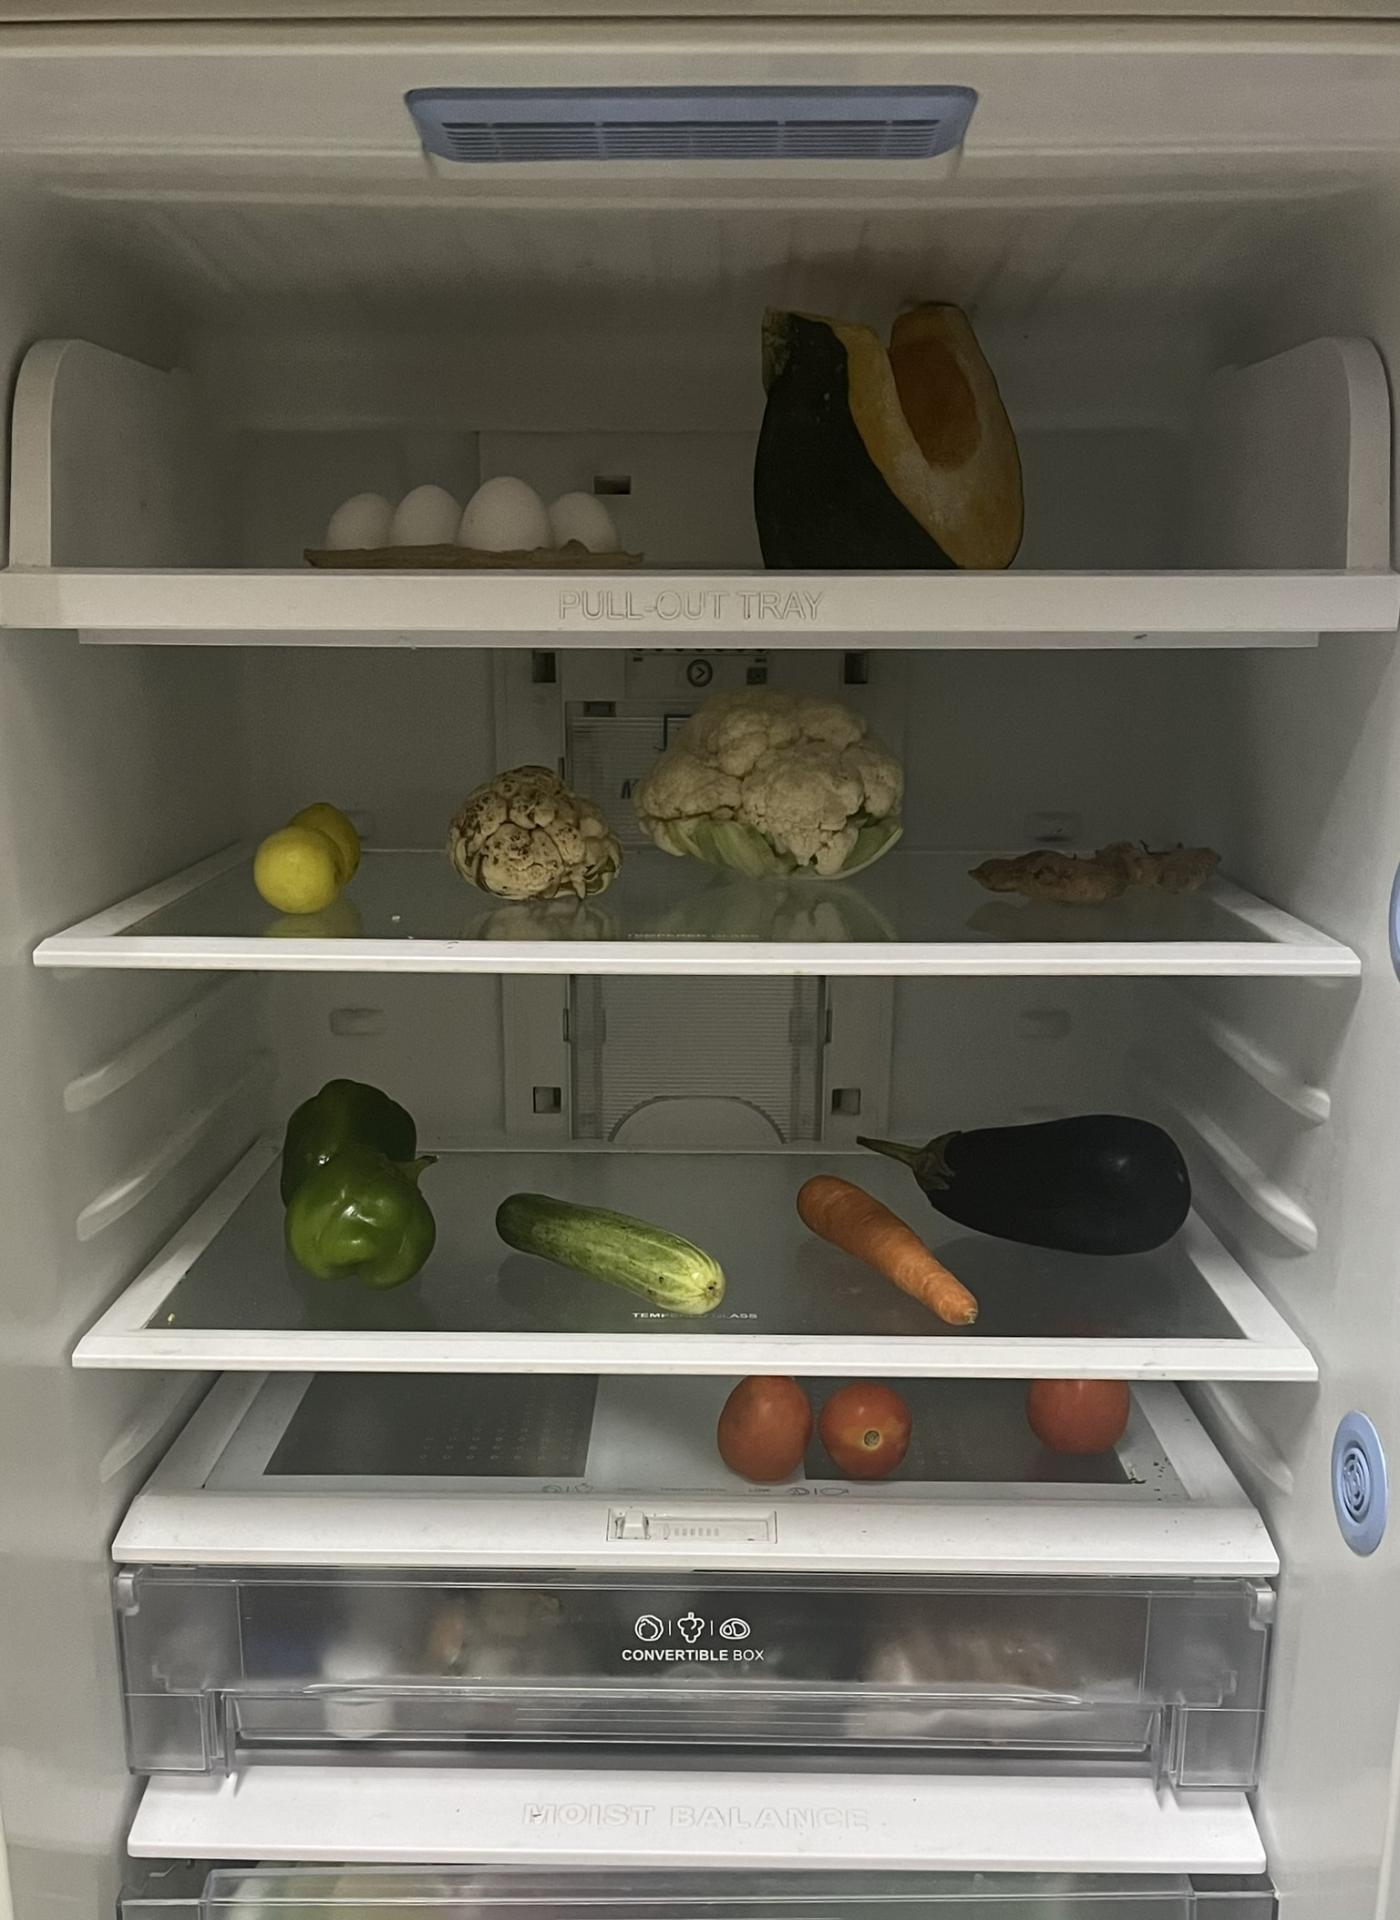brinjal: (877, 1127, 1209, 1252)
capsicum: (279, 1085, 440, 1294)
carrots: (799, 1160, 963, 1315)
cauliflower: (631, 714, 902, 877), (467, 775, 632, 927)
cucumber: (485, 1182, 723, 1306)
egg: (303, 480, 613, 555)
ginger: (977, 841, 1230, 911)
lemon: (256, 799, 346, 911)
pumpkin: (753, 292, 1051, 565)
tomato: (713, 1386, 926, 1494), (1023, 1374, 1133, 1465)
